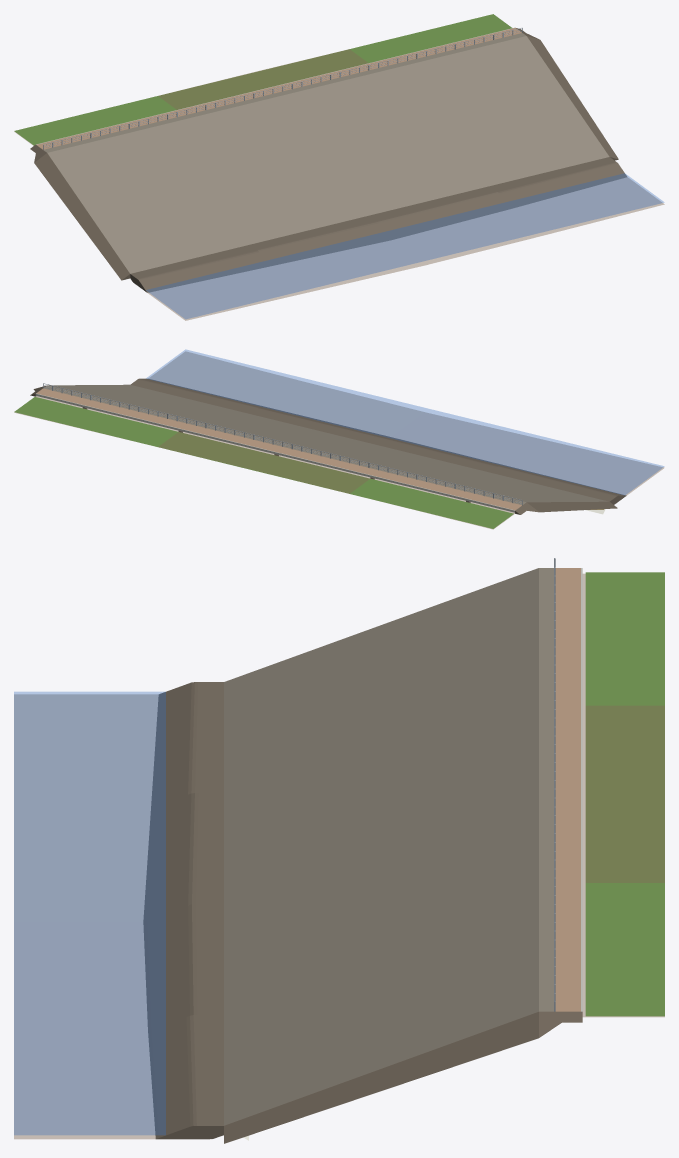
The picture shows the model from 3 angles, top to bottom: view 1: azimuth 30°, elevation 25°; view 2: azimuth 150°, elevation 25°; view 3: azimuth 270°, elevation 25°; orthographic projection. The views are drawn at different scales.
Visible parts, largest first — view 1: ผิวดินเดิม (จากรูปตัดสำรวจ), ระดับน้ำต่ำสุดเฉลี่ย, พื้นดินหลังเขื่อน, เรียงหินใหญ่หน้าเขื่อน แทรกหินเล็ก S08, เรียงหินใหญ่หน้าเขื่อน แทรกหินเล็ก S01, เรียงหินใหญ่หน้าเขื่อน แทรกหินเล็ก S04, เรียงหินใหญ่หน้าเขื่อน แทรกหินเล็ก S07, เรียงหินใหญ่หน้าเขื่อน แทรกหินเล็ก S10, เรียงหินใหญ่หน้าเขื่อน แทรกหินเล็ก S05, เรียงหินใหญ่หน้าเขื่อน แทรกหินเล็ก S09, เรียงหินใหญ่หน้าเขื่อน แทรกหินเล็ก S02, เรียงหินใหญ่หน้าเขื่อน แทรกหินเล็ก S03 (+5 smaller); view 2: ผิวดินเดิม (จากรูปตัดสำรวจ), ระดับน้ำต่ำสุดเฉลี่ย, พื้นดินหลังเขื่อน, คันหินทิ้งตีนเขื่อน 0-25, คันหินทิ้งตีนเขื่อน 50-75, คันหินทิ้งตีนเขื่อน 25-50, คันหินทิ้งตีนเขื่อน 75-100, เรียงหินใหญ่หน้าเขื่อน แทรกหินเล็ก S02, เรียงหินใหญ่หน้าเขื่อน แทรกหินเล็ก S09, เรียงหินใหญ่หน้าเขื่อน แทรกหินเล็ก S05, เรียงหินใหญ่หน้าเขื่อน แทรกหินเล็ก S06, เรียงหินใหญ่หน้าเขื่อน แทรกหินเล็ก S08 (+15 smaller); view 3: ผิวดินเดิม (จากรูปตัดสำรวจ), ระดับน้ำต่ำสุดเฉลี่ย, พื้นดินหลังเขื่อน, เรียงหินใหญ่หน้าเขื่อน แทรกหินเล็ก S05, เรียงหินใหญ่หน้าเขื่อน แทรกหินเล็ก S06, เรียงหินใหญ่หน้าเขื่อน แทรกหินเล็ก S01, เรียงหินใหญ่หน้าเขื่อน แทรกหินเล็ก S02, เรียงหินใหญ่หน้าเขื่อน แทรกหินเล็ก S03, เรียงหินใหญ่หน้าเขื่อน แทรกหินเล็ก S04, เรียงหินใหญ่หน้าเขื่อน แทรกหินเล็ก S07, เรียงหินใหญ่หน้าเขื่อน แทรกหินเล็ก S08, เรียงหินใหญ่หน้าเขื่อน แทรกหินเล็ก S09 (+22 smaller).
Part boxes in pixels (x1=…): ผิวดินเดิม (จากรูปตัดสำรวจ): x1=14, y1=49, x2=664, y2=320; ระดับน้ำต่ำสุดเฉลี่ย: x1=146, y1=173, x2=664, y2=318; พื้นดินหลังเขื่อน: x1=14, y1=14, x2=512, y2=145; เรียงหินใหญ่หน้าเขื่อน แทรกหินเล็ก S08: x1=379, y1=56, x2=513, y2=191; เรียงหินใหญ่หน้าเขื่อน แทรกหินเล็ก S01: x1=43, y1=138, x2=177, y2=273; เรียงหินใหญ่หน้าเขื่อน แทรกหินเล็ก S04: x1=187, y1=103, x2=321, y2=238; เรียงหินใหญ่หน้าเขื่อน แทรกหินเล็ก S07: x1=331, y1=68, x2=465, y2=203; เรียงหินใหญ่หน้าเขื่อน แทรกหินเล็ก S10: x1=475, y1=33, x2=609, y2=168; เรียงหินใหญ่หน้าเขื่อน แทรกหินเล็ก S05: x1=235, y1=91, x2=369, y2=226; เรียงหินใหญ่หน้าเขื่อน แทรกหินเล็ก S09: x1=427, y1=44, x2=561, y2=179; เรียงหินใหญ่หน้าเขื่อน แทรกหินเล็ก S02: x1=91, y1=126, x2=225, y2=261; เรียงหินใหญ่หน้าเขื่อน แทรกหินเล็ก S03: x1=139, y1=115, x2=273, y2=250; ผิวดินเดิม (จากรูปตัดสำรวจ): x1=14, y1=351, x2=664, y2=529; ระดับน้ำต่ำสุดเฉลี่ย: x1=146, y1=349, x2=664, y2=495; พื้นดินหลังเขื่อน: x1=14, y1=397, x2=513, y2=528; คันหินทิ้งตีนเขื่อน 0-25: x1=490, y1=466, x2=626, y2=504; คันหินทิ้งตีนเขื่อน 50-75: x1=250, y1=408, x2=389, y2=442; คันหินทิ้งตีนเขื่อน 25-50: x1=370, y1=437, x2=507, y2=472; คันหินทิ้งตีนเขื่อน 75-100: x1=130, y1=378, x2=269, y2=413; เรียงหินใหญ่หน้าเขื่อน แทรกหินเล็ก S02: x1=427, y1=478, x2=560, y2=493; เรียงหินใหญ่หน้าเขื่อน แทรกหินเล็ก S09: x1=91, y1=396, x2=225, y2=411; เรียงหินใหญ่หน้าเขื่อน แทรกหินเล็ก S05: x1=283, y1=443, x2=416, y2=458; เรียงหินใหญ่หน้าเขื่อน แทรกหินเล็ก S06: x1=235, y1=431, x2=369, y2=446; เรียงหินใหญ่หน้าเขื่อน แทรกหินเล็ก S08: x1=139, y1=408, x2=273, y2=422; ผิวดินเดิม (จากรูปตัดสำรวจ): x1=14, y1=573, x2=664, y2=1139; ระดับน้ำต่ำสุดเฉลี่ย: x1=14, y1=692, x2=165, y2=1134; พื้นดินหลังเขื่อน: x1=585, y1=572, x2=664, y2=1016; เรียงหินใหญ่หน้าเขื่อน แทรกหินเล็ก S05: x1=224, y1=745, x2=553, y2=903; เรียงหินใหญ่หน้าเขื่อน แทรกหินเล็ก S06: x1=224, y1=789, x2=553, y2=948; เรียงหินใหญ่หน้าเขื่อน แทรกหินเล็ก S01: x1=224, y1=568, x2=553, y2=726; เรียงหินใหญ่หน้าเขื่อน แทรกหินเล็ก S02: x1=224, y1=612, x2=553, y2=770; เรียงหินใหญ่หน้าเขื่อน แทรกหินเล็ก S03: x1=224, y1=656, x2=553, y2=814; เรียงหินใหญ่หน้าเขื่อน แทรกหินเล็ก S04: x1=224, y1=701, x2=553, y2=859; เรียงหินใหญ่หน้าเขื่อน แทรกหินเล็ก S07: x1=224, y1=834, x2=553, y2=992; เรียงหินใหญ่หน้าเขื่อน แทรกหินเล็ก S08: x1=224, y1=878, x2=553, y2=1036; เรียงหินใหญ่หน้าเขื่อน แทรกหินเล็ก S09: x1=224, y1=923, x2=553, y2=1081.
Size of the model in its own units: 106 by 14.94 by 62.
